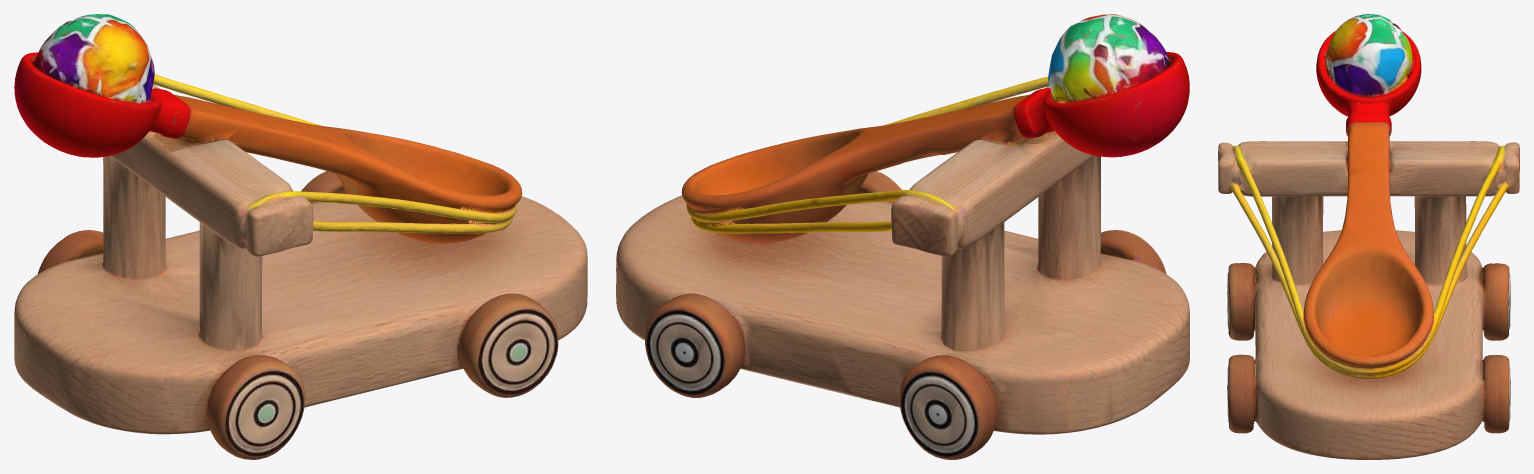
3 renders of one model, left to right at view 1: azimuth 30°, elevation 25°; view 2: azimuth 150°, elevation 25°; view 3: azimuth 270°, elevation 25°, orthographic. The views are drawn at different scales.
Visible parts, largest first — view 1: Mesh_0; view 2: Mesh_0; view 3: Mesh_0.
Part boxes in pixels (box(x1,y1,x2,y2)): Mesh_0: box(14, 14, 587, 459); Mesh_0: box(616, 14, 1189, 459); Mesh_0: box(1218, 14, 1519, 459).
Size of the model in its own units: 1.91 by 1.33 by 1.24.
1 material, 1 textured.
